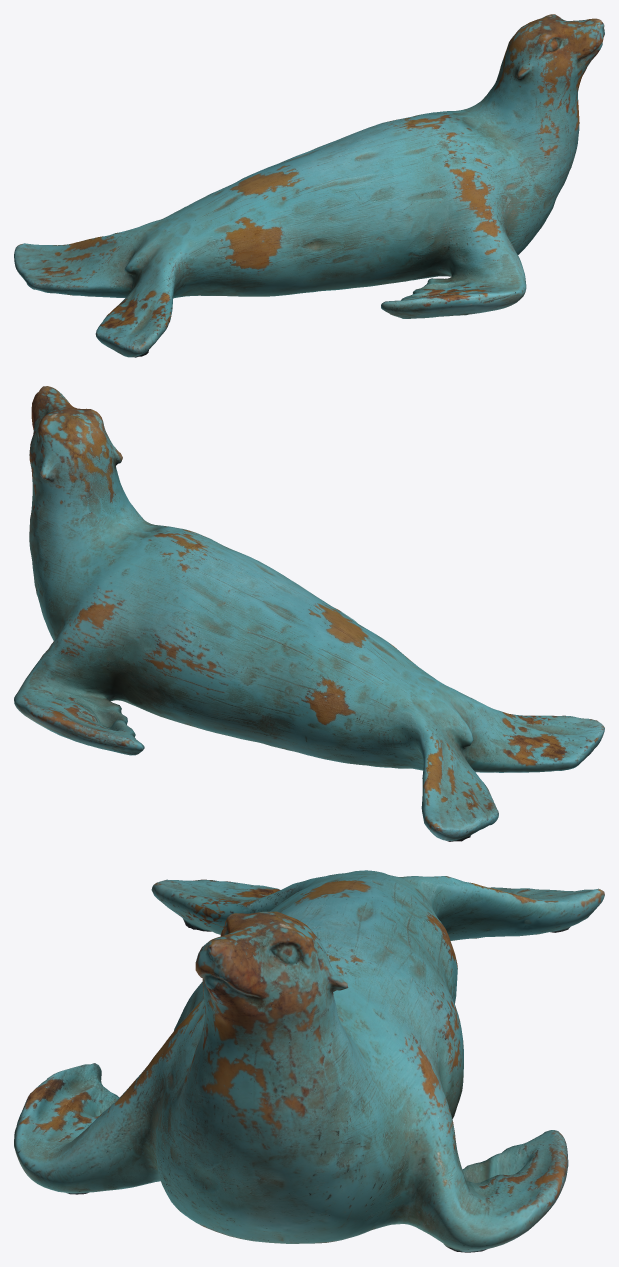
File: seal.glb
The picture shows the model from 3 angles, top to bottom: view 1: azimuth 30°, elevation 25°; view 2: azimuth 150°, elevation 25°; view 3: azimuth 270°, elevation 25°; orthographic projection. The views are drawn at different scales.
Visible parts, largest first — view 1: ot.001; view 2: ot.001; view 3: ot.001.
Boxes of the visible parts, x1=… form: ot.001: x1=14, y1=14, x2=604, y2=357; ot.001: x1=14, y1=386, x2=604, y2=841; ot.001: x1=14, y1=870, x2=604, y2=1252.
Size of the model in its own units: 0.3765 by 0.1578 by 0.2312.
Materials: 1 (1 with a texture image).
